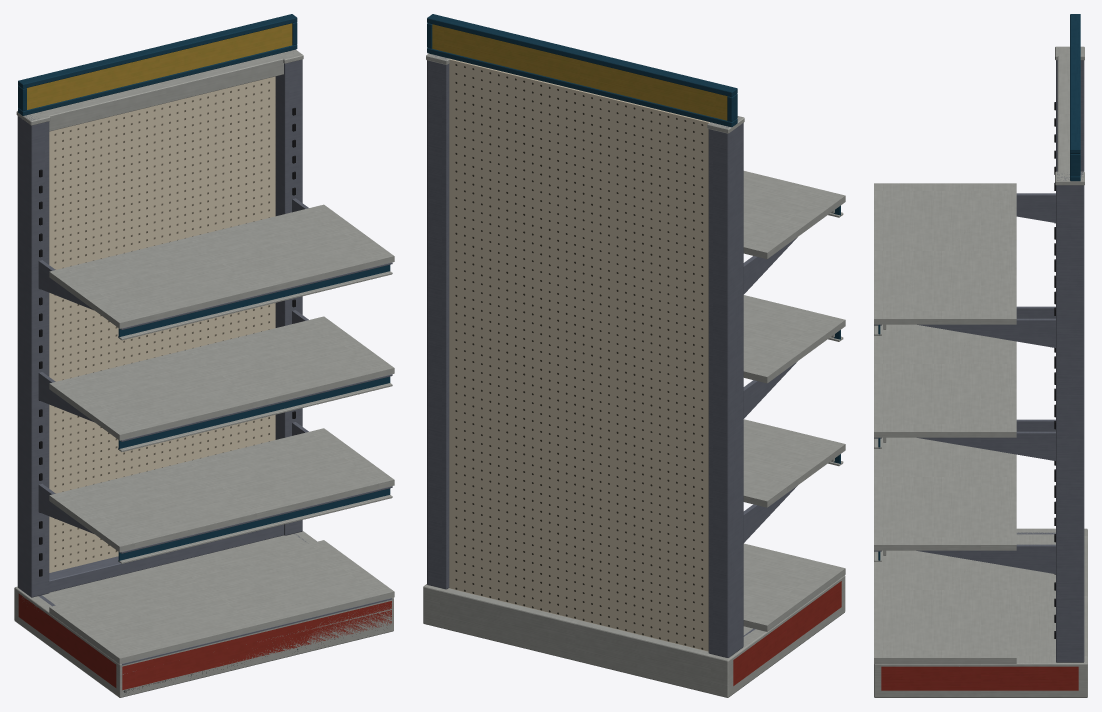
File: gondola_endcap.glb
3 renders of one model, left to right at view 1: azimuth 30°, elevation 25°; view 2: azimuth 150°, elevation 25°; view 3: azimuth 270°, elevation 25°, orthographic. The views are drawn at different scales.
Parts seen in each view (by area): view 1: gondola_endcap.001; view 2: gondola_endcap.001; view 3: gondola_endcap.001.
Part boxes in pixels (x1,y1,x2,y2): gondola_endcap.001: (14, 14, 394, 697); gondola_endcap.001: (423, 14, 845, 697); gondola_endcap.001: (874, 14, 1087, 697).
Size of what is drawn, in the model's own units: 0.9 by 1.7 by 0.6.
7 materials, 7 textured.
